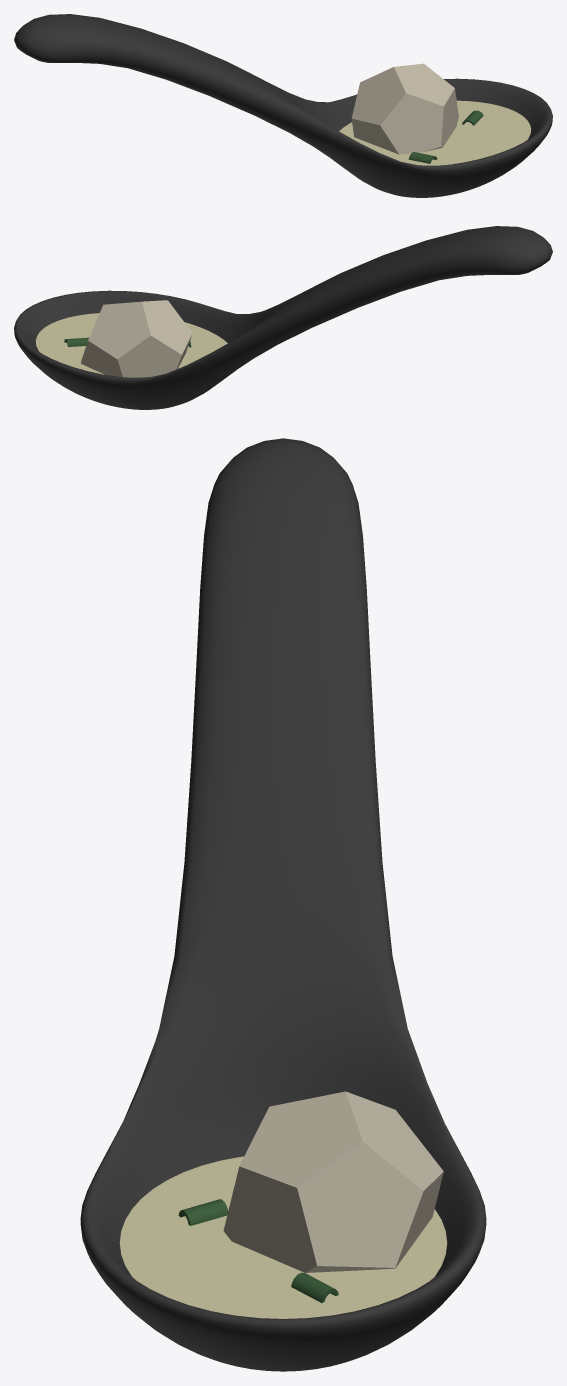
The model's file is Short_Spoon_1_1.fbx.
3 views of the same model, one above another, from view 1: azimuth 30°, elevation 25°; view 2: azimuth 150°, elevation 25°; view 3: azimuth 270°, elevation 25° (orthographic). The views are drawn at different scales.
Parts seen in each view (by area): view 1: polySurface6; view 2: polySurface6; view 3: polySurface6.
Part boxes in pixels (box(x1,y1,x2,y2)): polySurface6: box(14, 14, 552, 197); polySurface6: box(14, 226, 552, 409); polySurface6: box(80, 438, 486, 1371).
Bounding box in the file's own units: 1.7 × 0.8002 × 0.5715.
